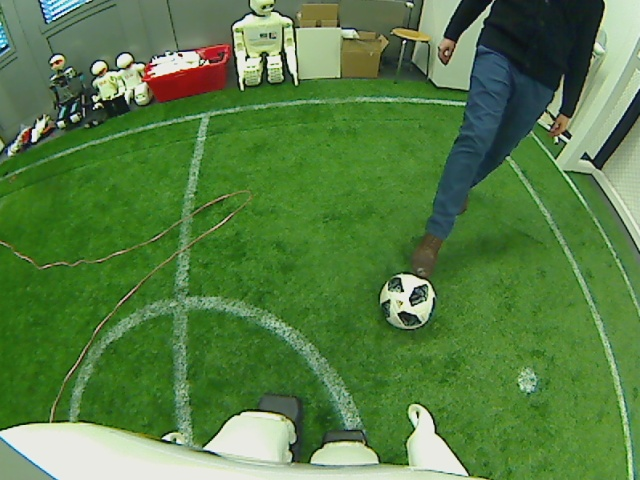ball: (377, 272, 439, 330)
